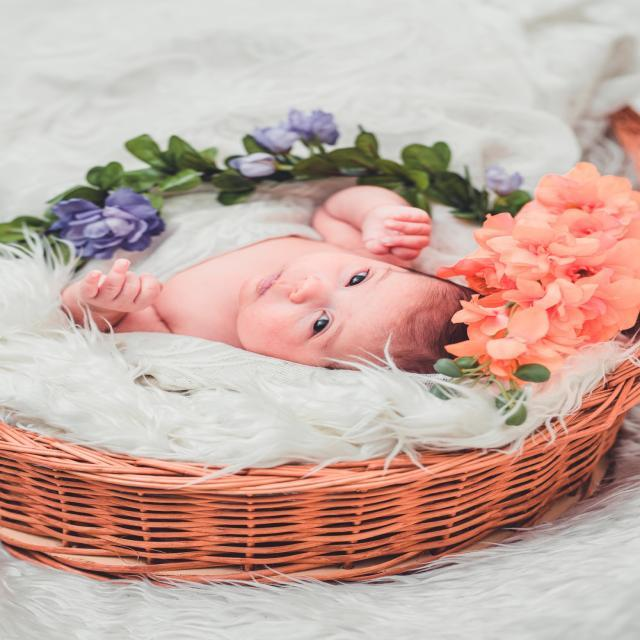non-dog: (55, 181, 498, 374)
